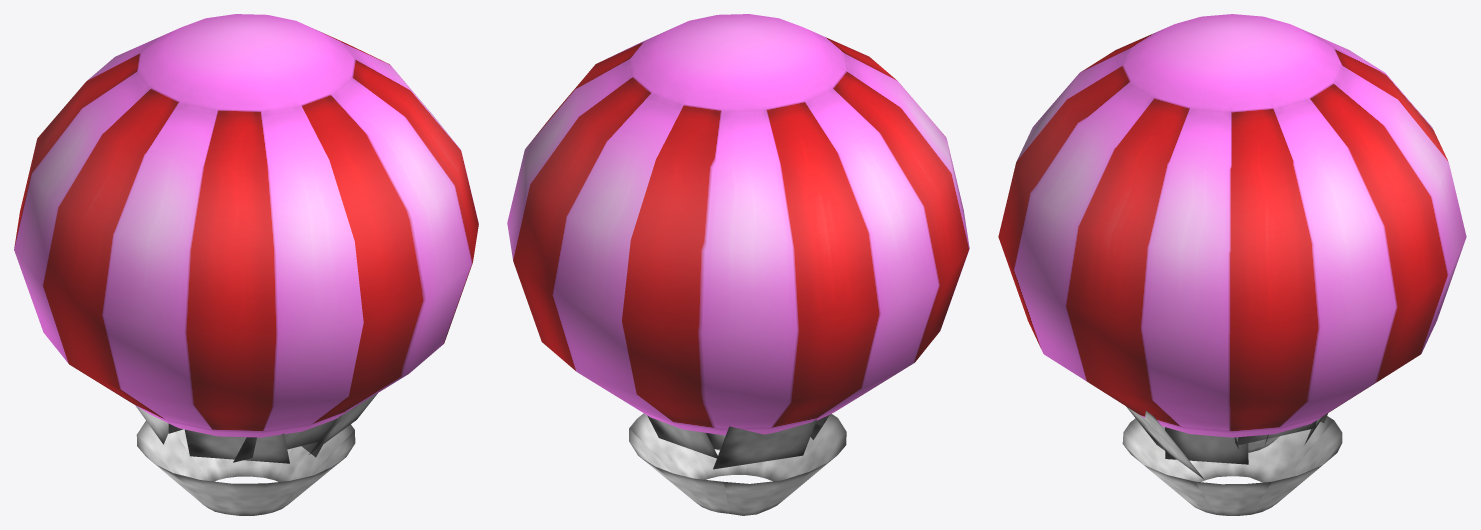
The model's file is a_SWAball03_01.glb.
3 views of the same model, side by side, from view 1: azimuth 30°, elevation 25°; view 2: azimuth 150°, elevation 25°; view 3: azimuth 270°, elevation 25° (orthographic).
Visible parts, largest first — view 1: a_SWAball03_01; view 2: a_SWAball03_01; view 3: a_SWAball03_01.
Part boxes in pixels (x1=…): a_SWAball03_01: x1=14, y1=14, x2=478, y2=515; a_SWAball03_01: x1=507, y1=14, x2=969, y2=515; a_SWAball03_01: x1=998, y1=14, x2=1466, y2=515.
Size of the model in its own units: 3.03 by 3.33 by 3.03.
Materials: 4 (4 with a texture image).
